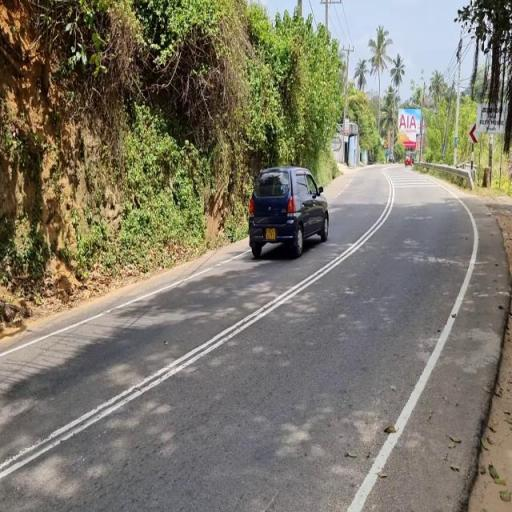double_white_line: (0, 174, 392, 480)
